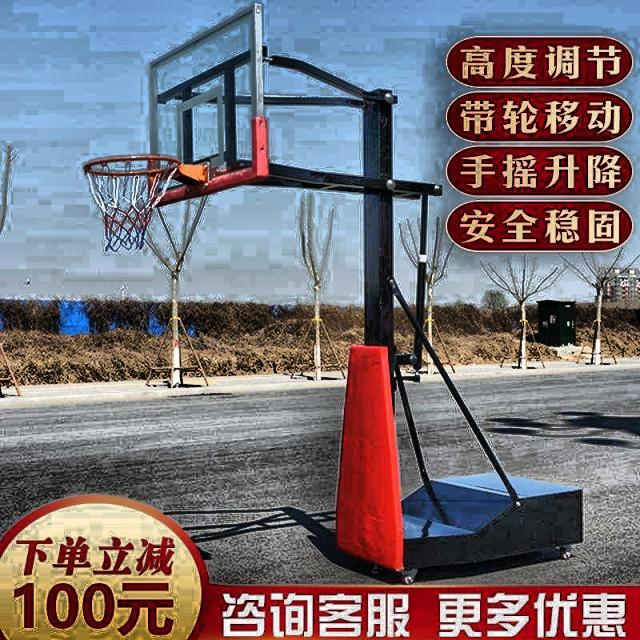rim: (82, 156, 179, 251)
